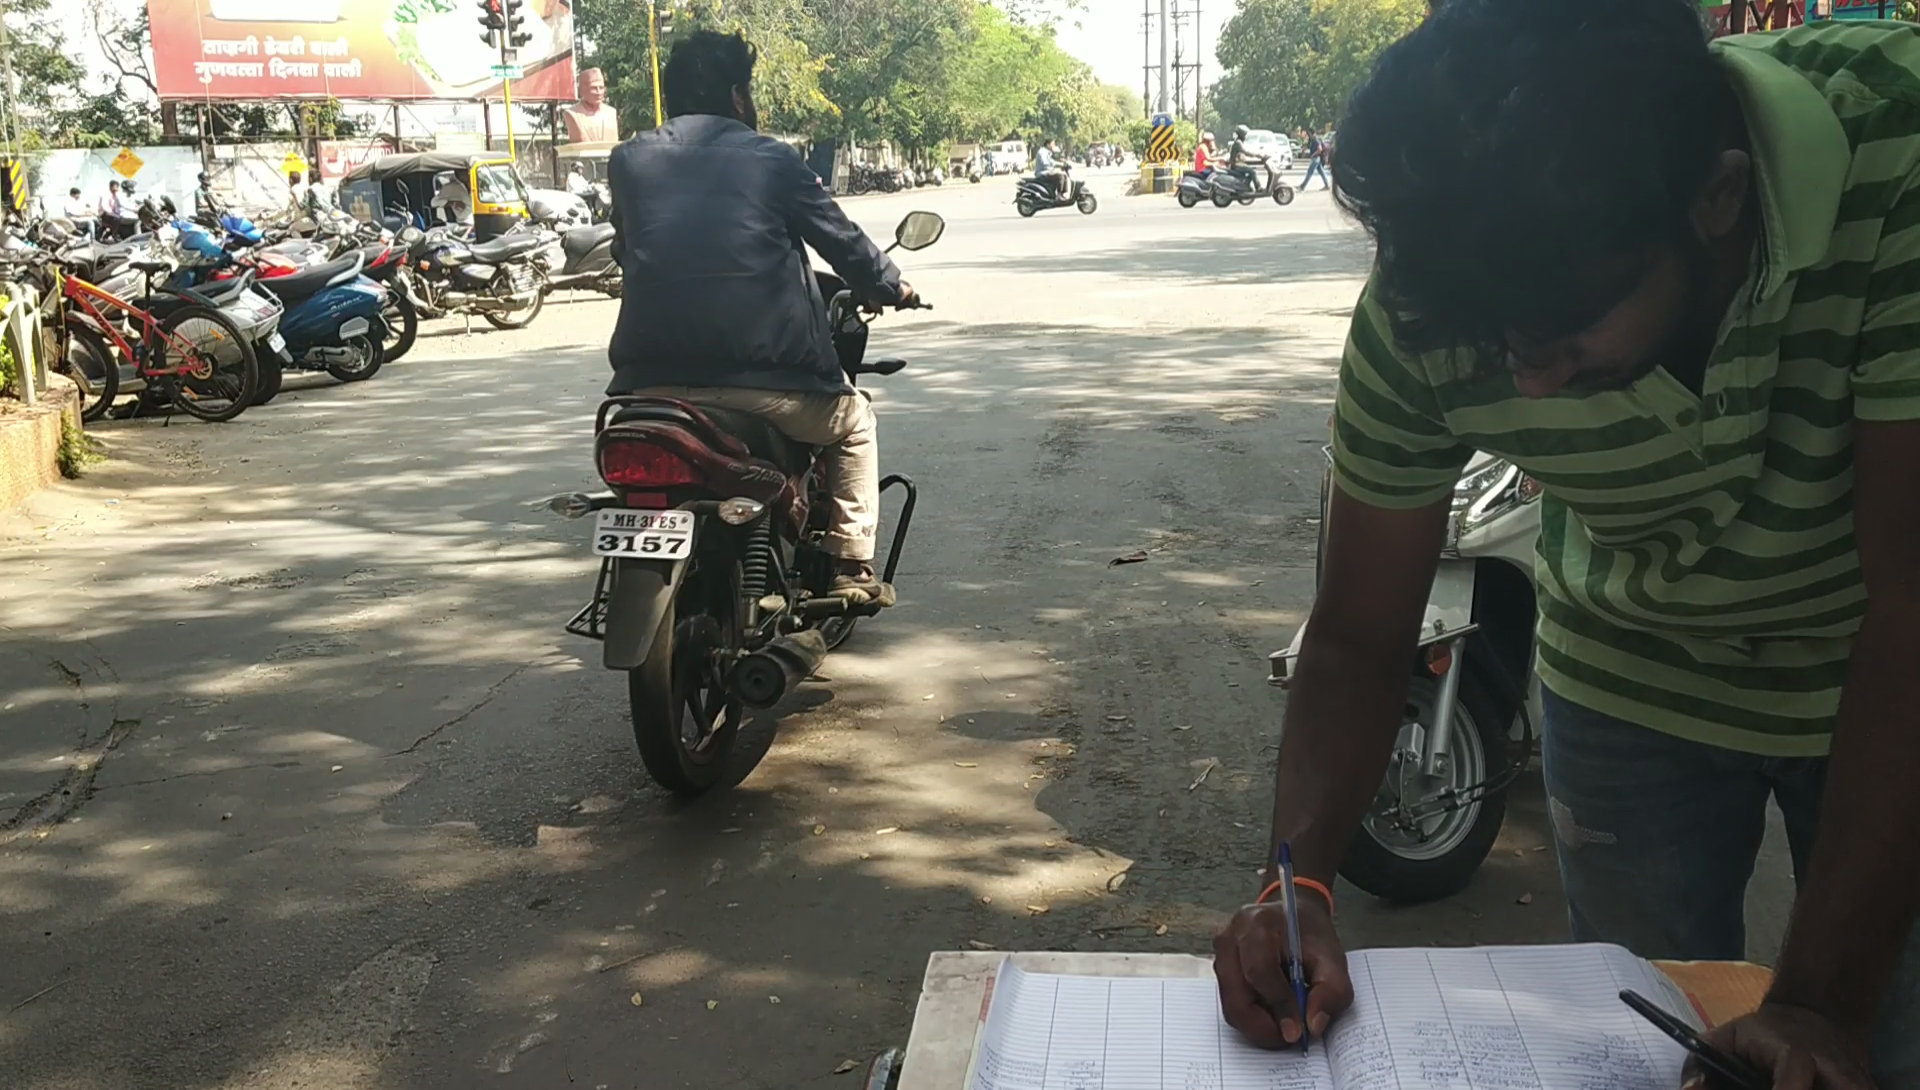car: (496, 198, 968, 844)
numplate: (589, 491, 689, 595)
